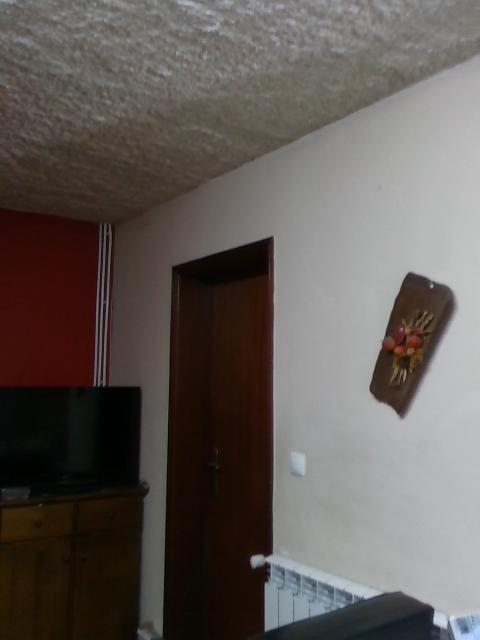door: (174, 247, 266, 640)
